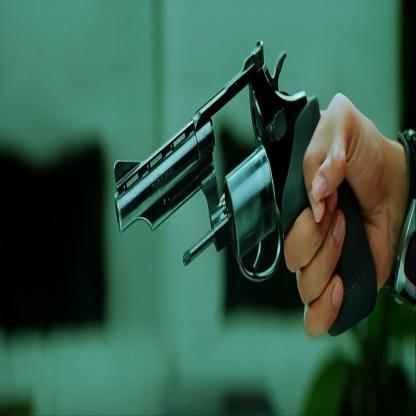gun: (104, 26, 380, 351)
